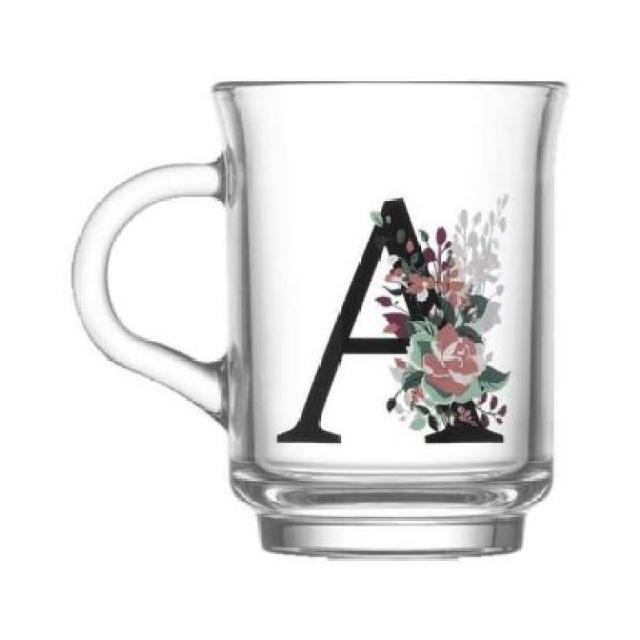taza: (69, 78, 570, 560)
